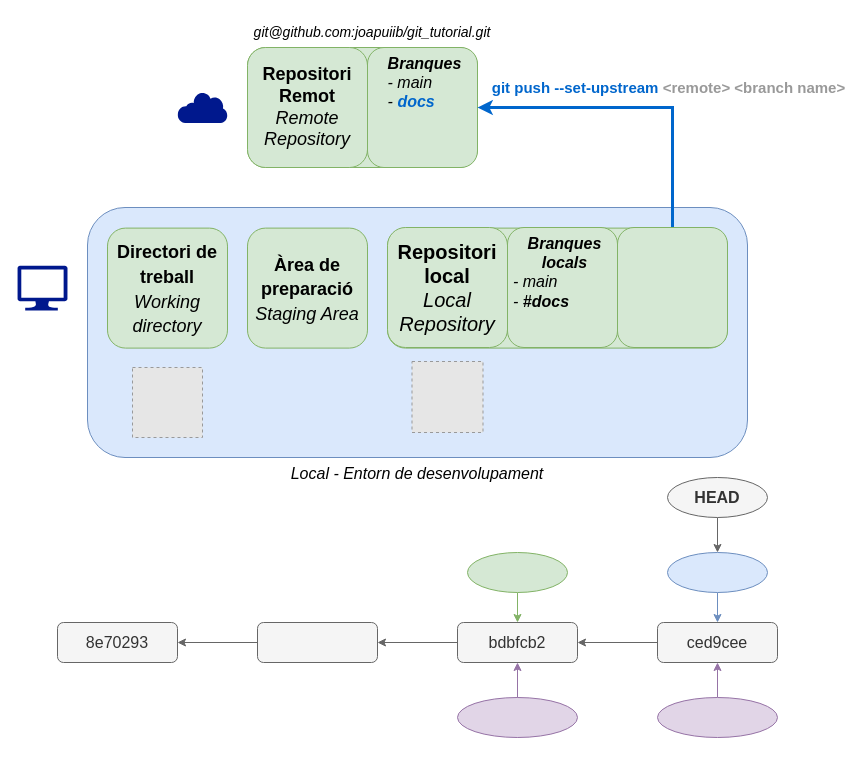
Some shapes in this 862 by 763 pixel diagram are drawn without their labels. Grey dashed boxes stand in for pictures. The centre of each missing label's shape, as x and y in pixels:
"Branques remotes - origin/main - origin/docs" belongs at (x=672, y=287).
"c9fc6c8" belongs at (x=317, y=642).
"docs" belongs at (x=717, y=572).
"main" belongs at (x=517, y=572).
"origin/docs" belongs at (x=717, y=717).
"origin/main" belongs at (x=517, y=717).
